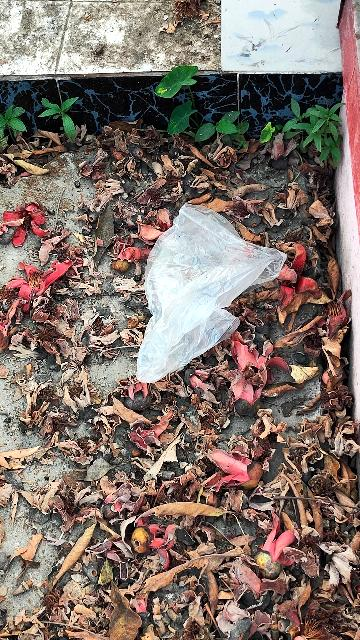polythene: (85, 188, 279, 391)
